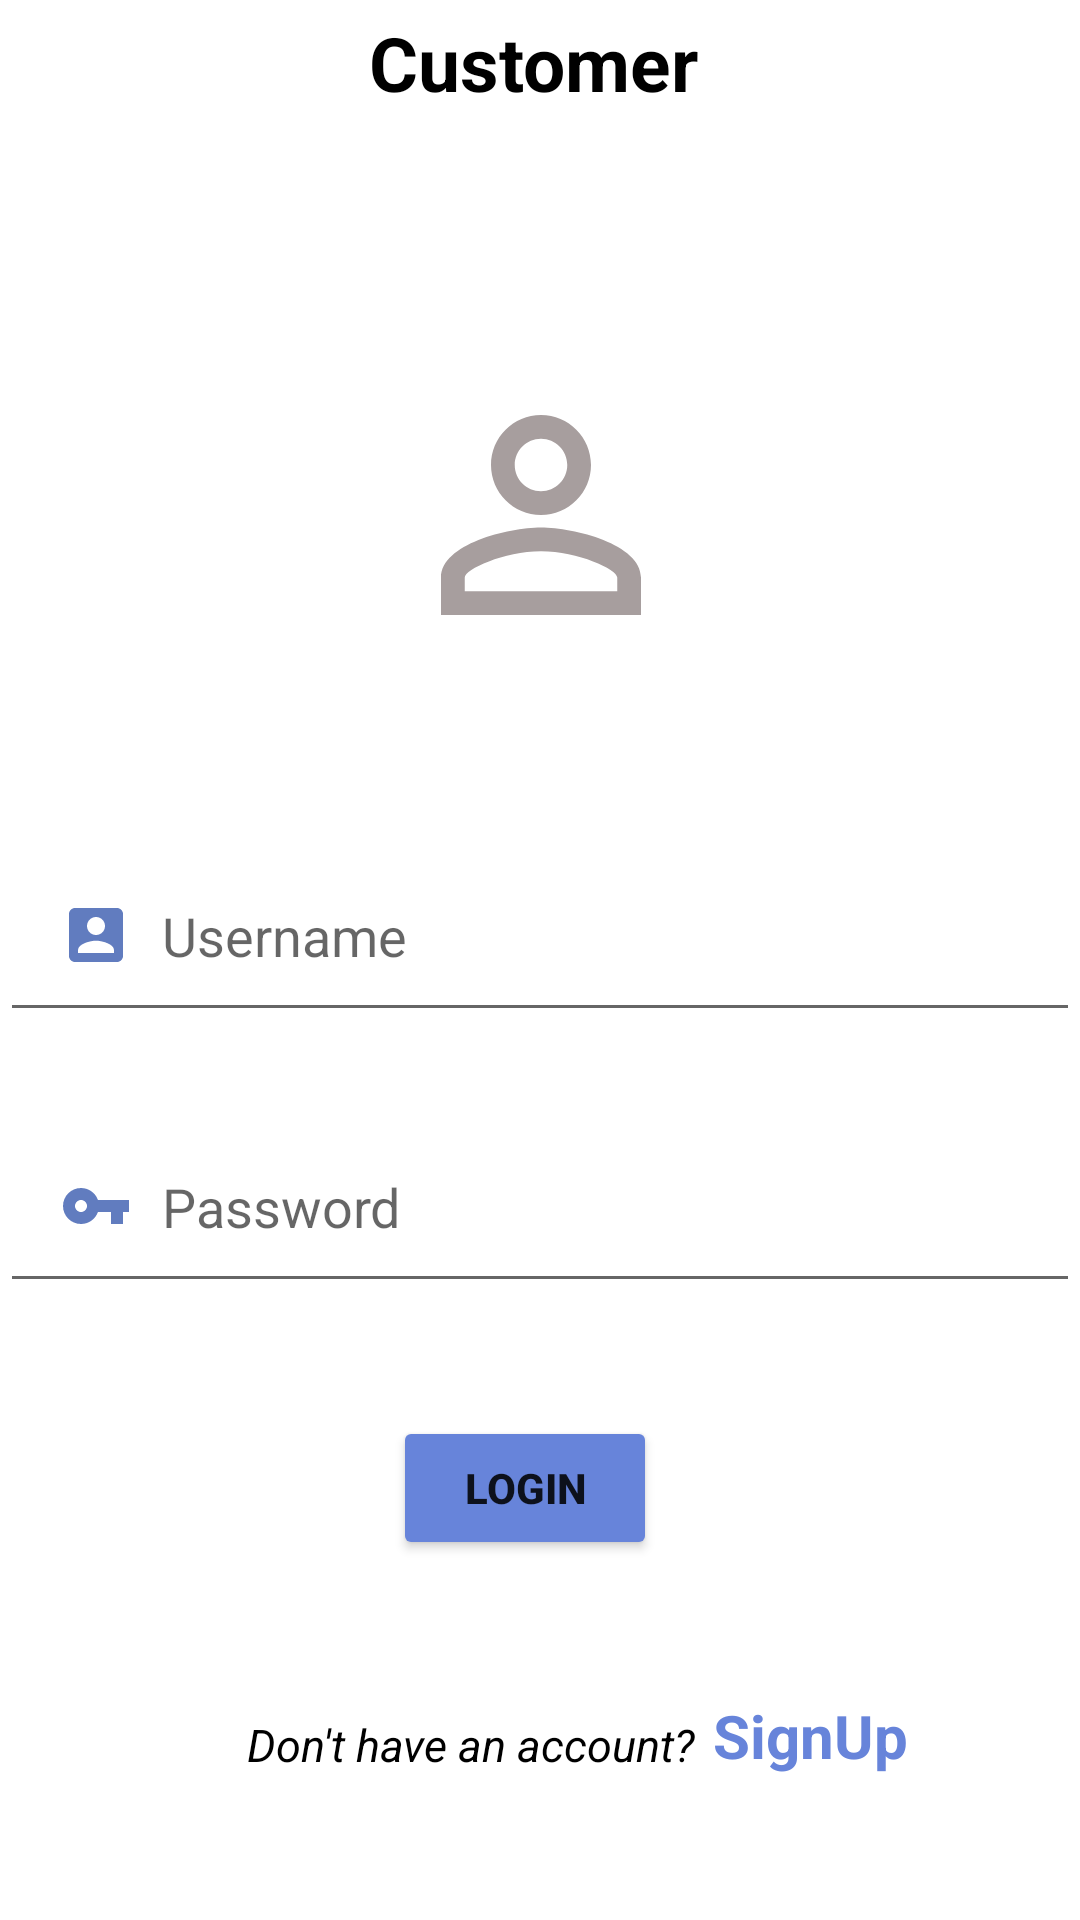

Icons on this 1080*1920 Android screen, each with the point to tap as (x,y):
person: (541,515)
